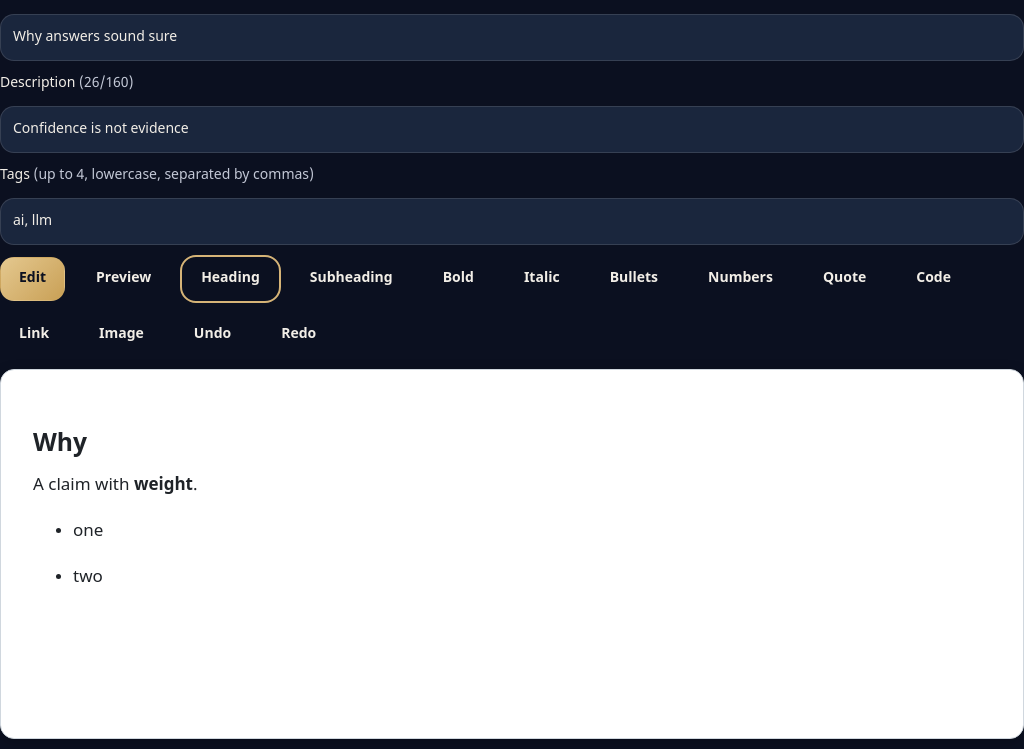
Scenario: The post editor › shows the server's refusal and stays unsaved
This screenshot has width=1024, height=749.
Clear the field labelled "Title" at point(512, 38), box x1=0 y1=14 x2=1023 y2=61
(page scrolled)
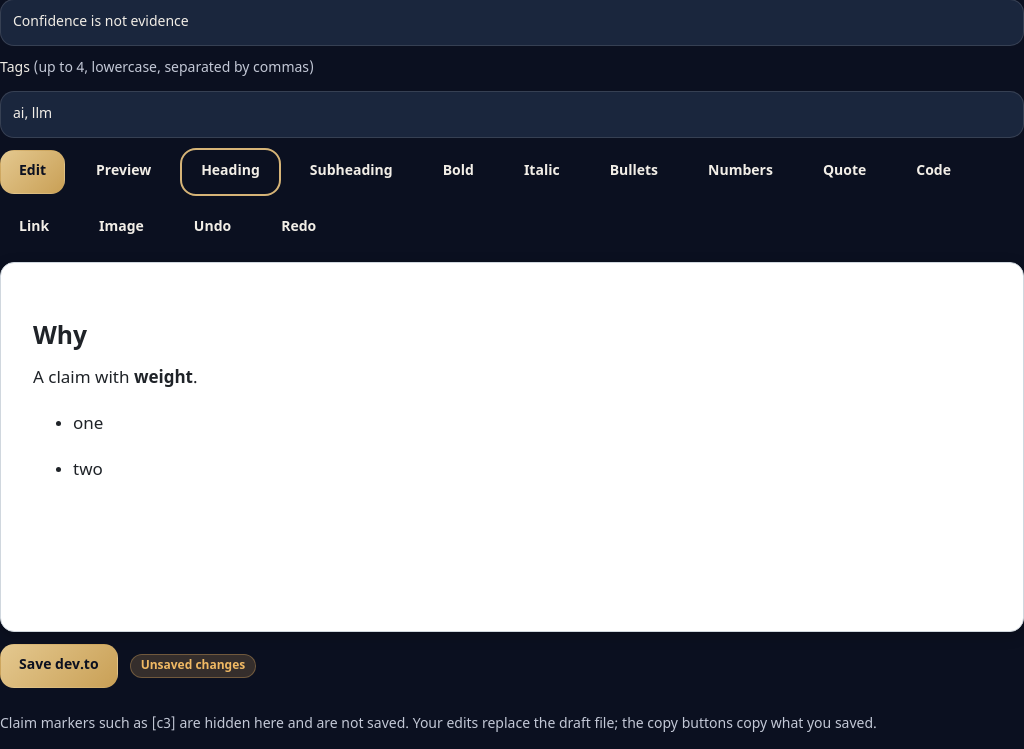
Click the button "Save dev.to" at point(59, 666), box x1=0 y1=644 x2=118 y2=688
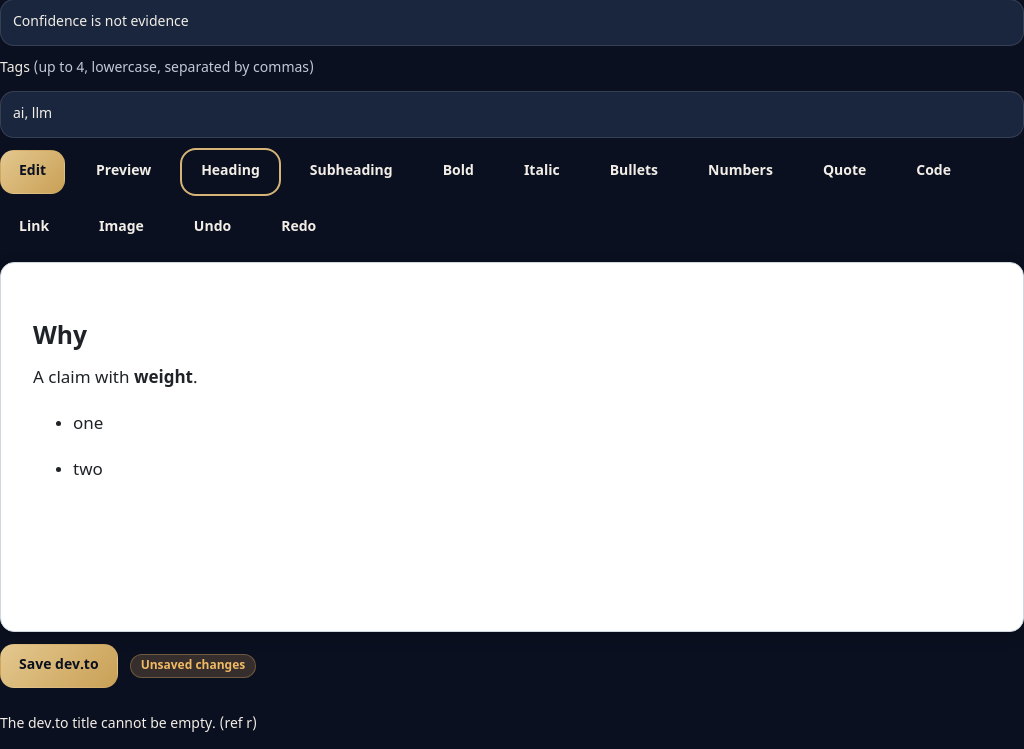
Check: the text "Unsaved changes" is shown, box x1=130 y1=654 x2=256 y2=678
Check: the message shows "title cannot be empty", box x1=0 y1=715 x2=257 y2=734
